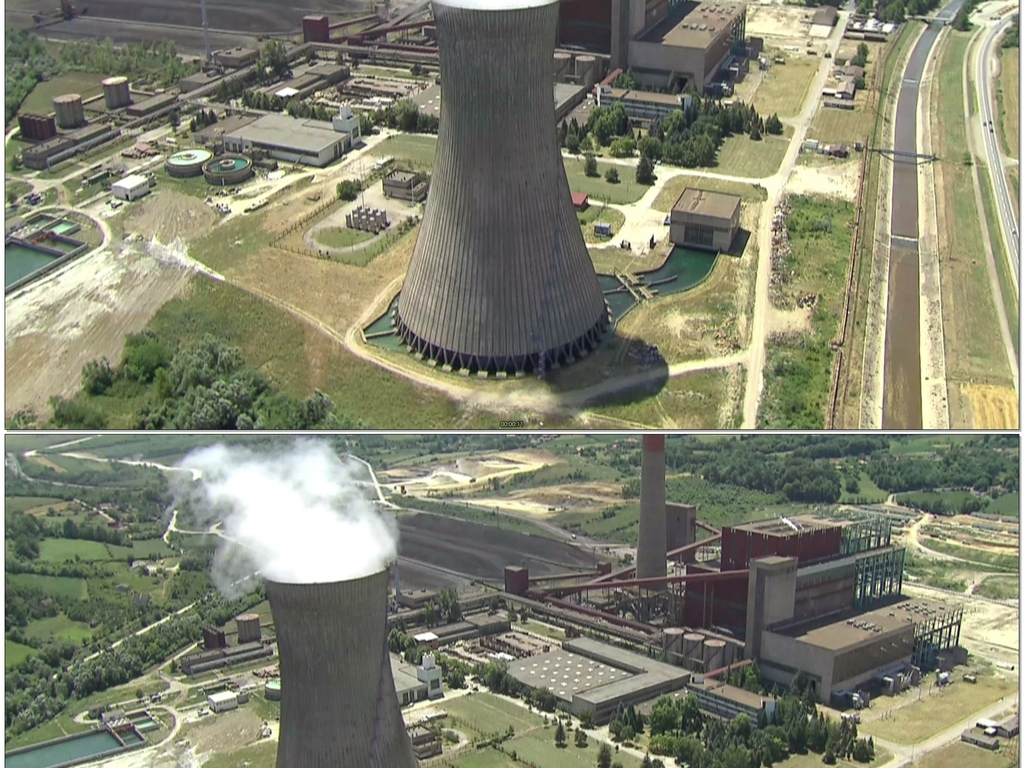dust: (181, 452, 406, 591)
